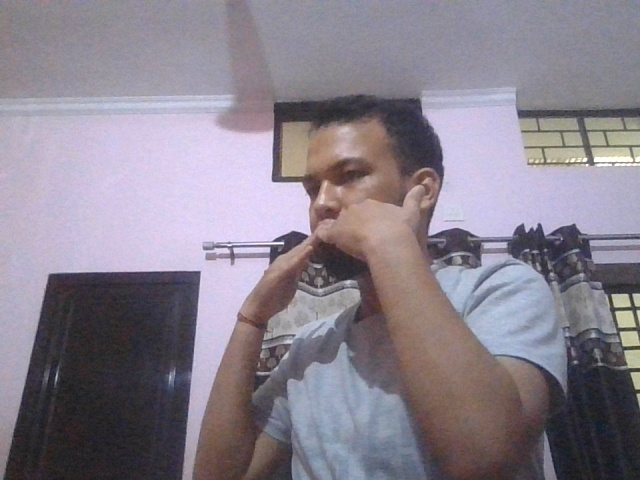thanks: (242, 185, 447, 319)
